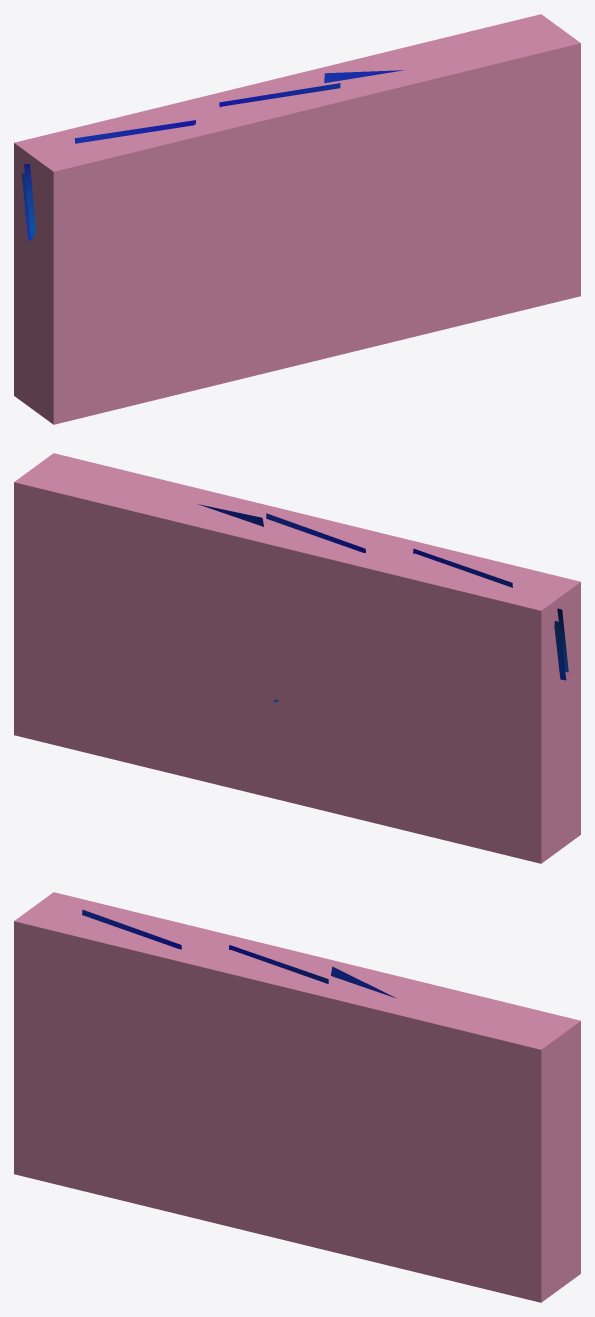
Rendered from vine_roof_wide.dae.
The picture shows the model from 3 angles, top to bottom: view 1: azimuth 30°, elevation 25°; view 2: azimuth 150°, elevation 25°; view 3: azimuth 330°, elevation 25°; orthographic projection.
Visible parts, largest first — view 1: Untitled, tree_oak_bush_a110; view 2: Untitled, tree_oak_bush_a110; view 3: Untitled, tree_oak_bush_a110.
Part boxes in pixels (box(x1,y1,x2,y2)): Untitled: box(14, 14, 580, 424); tree_oak_bush_a110: box(21, 70, 402, 240); Untitled: box(14, 453, 580, 863); tree_oak_bush_a110: box(197, 504, 568, 680); Untitled: box(14, 892, 580, 1302); tree_oak_bush_a110: box(82, 909, 396, 998).
Bounding box in the file's own units: 3.83 × 0.516 × 1.88.
